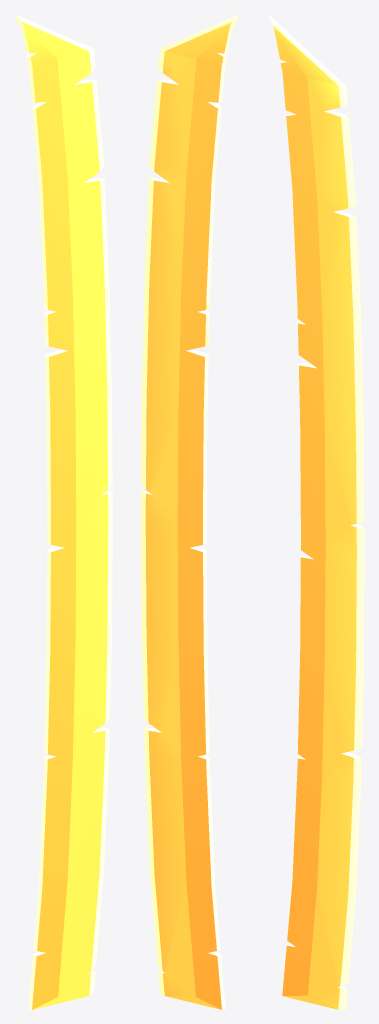
The model's file is gold_blade_scratched_058.glb.
3 views of the same model, side by side, from view 1: azimuth 30°, elevation 25°; view 2: azimuth 150°, elevation 25°; view 3: azimuth 330°, elevation 25° (orthographic). The views are drawn at different scales.
Visible parts, largest first — view 1: gold_blade_scratched.058; view 2: gold_blade_scratched.058; view 3: gold_blade_scratched.058.
Part boxes in pixels (left/top/right/bottom): gold_blade_scratched.058: left=14, top=14, right=112, bottom=1009; gold_blade_scratched.058: left=141, top=14, right=239, bottom=1009; gold_blade_scratched.058: left=268, top=14, right=364, bottom=1009.
Size of the model in its own units: 1.22 by 11.77 by 0.0749.
1 material, 1 textured.
